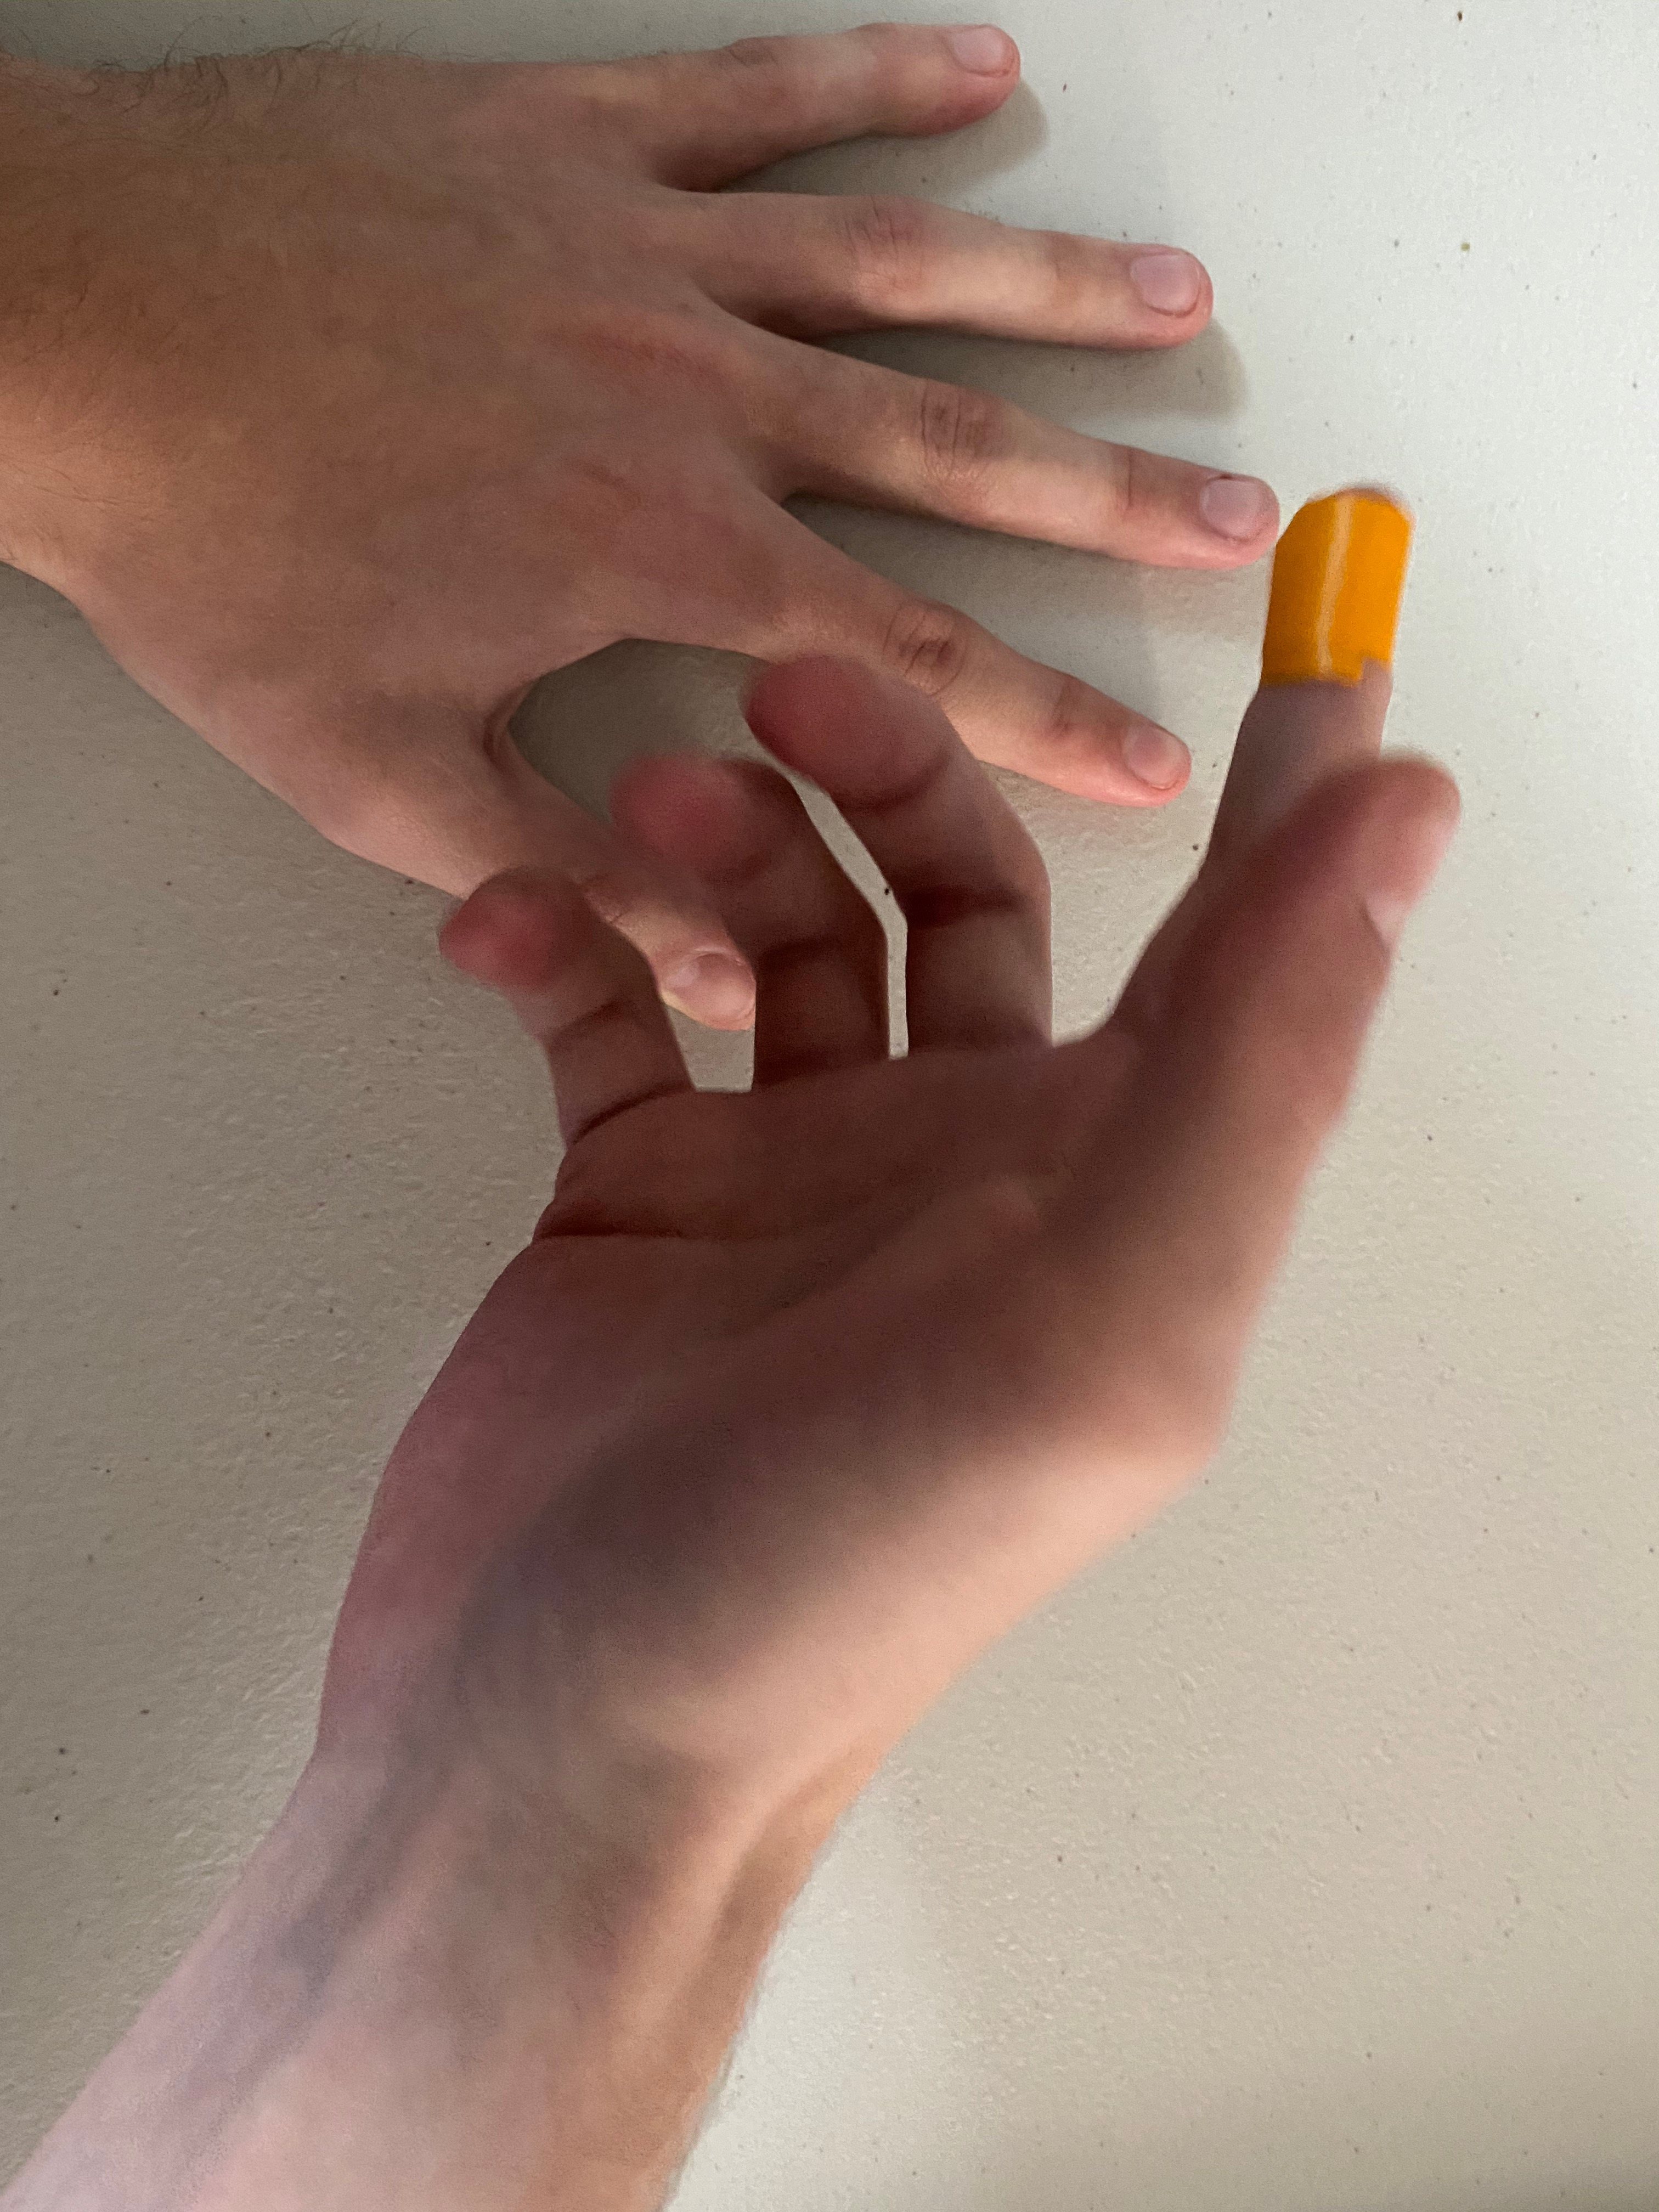fingertip: (1269, 477, 1427, 719)
